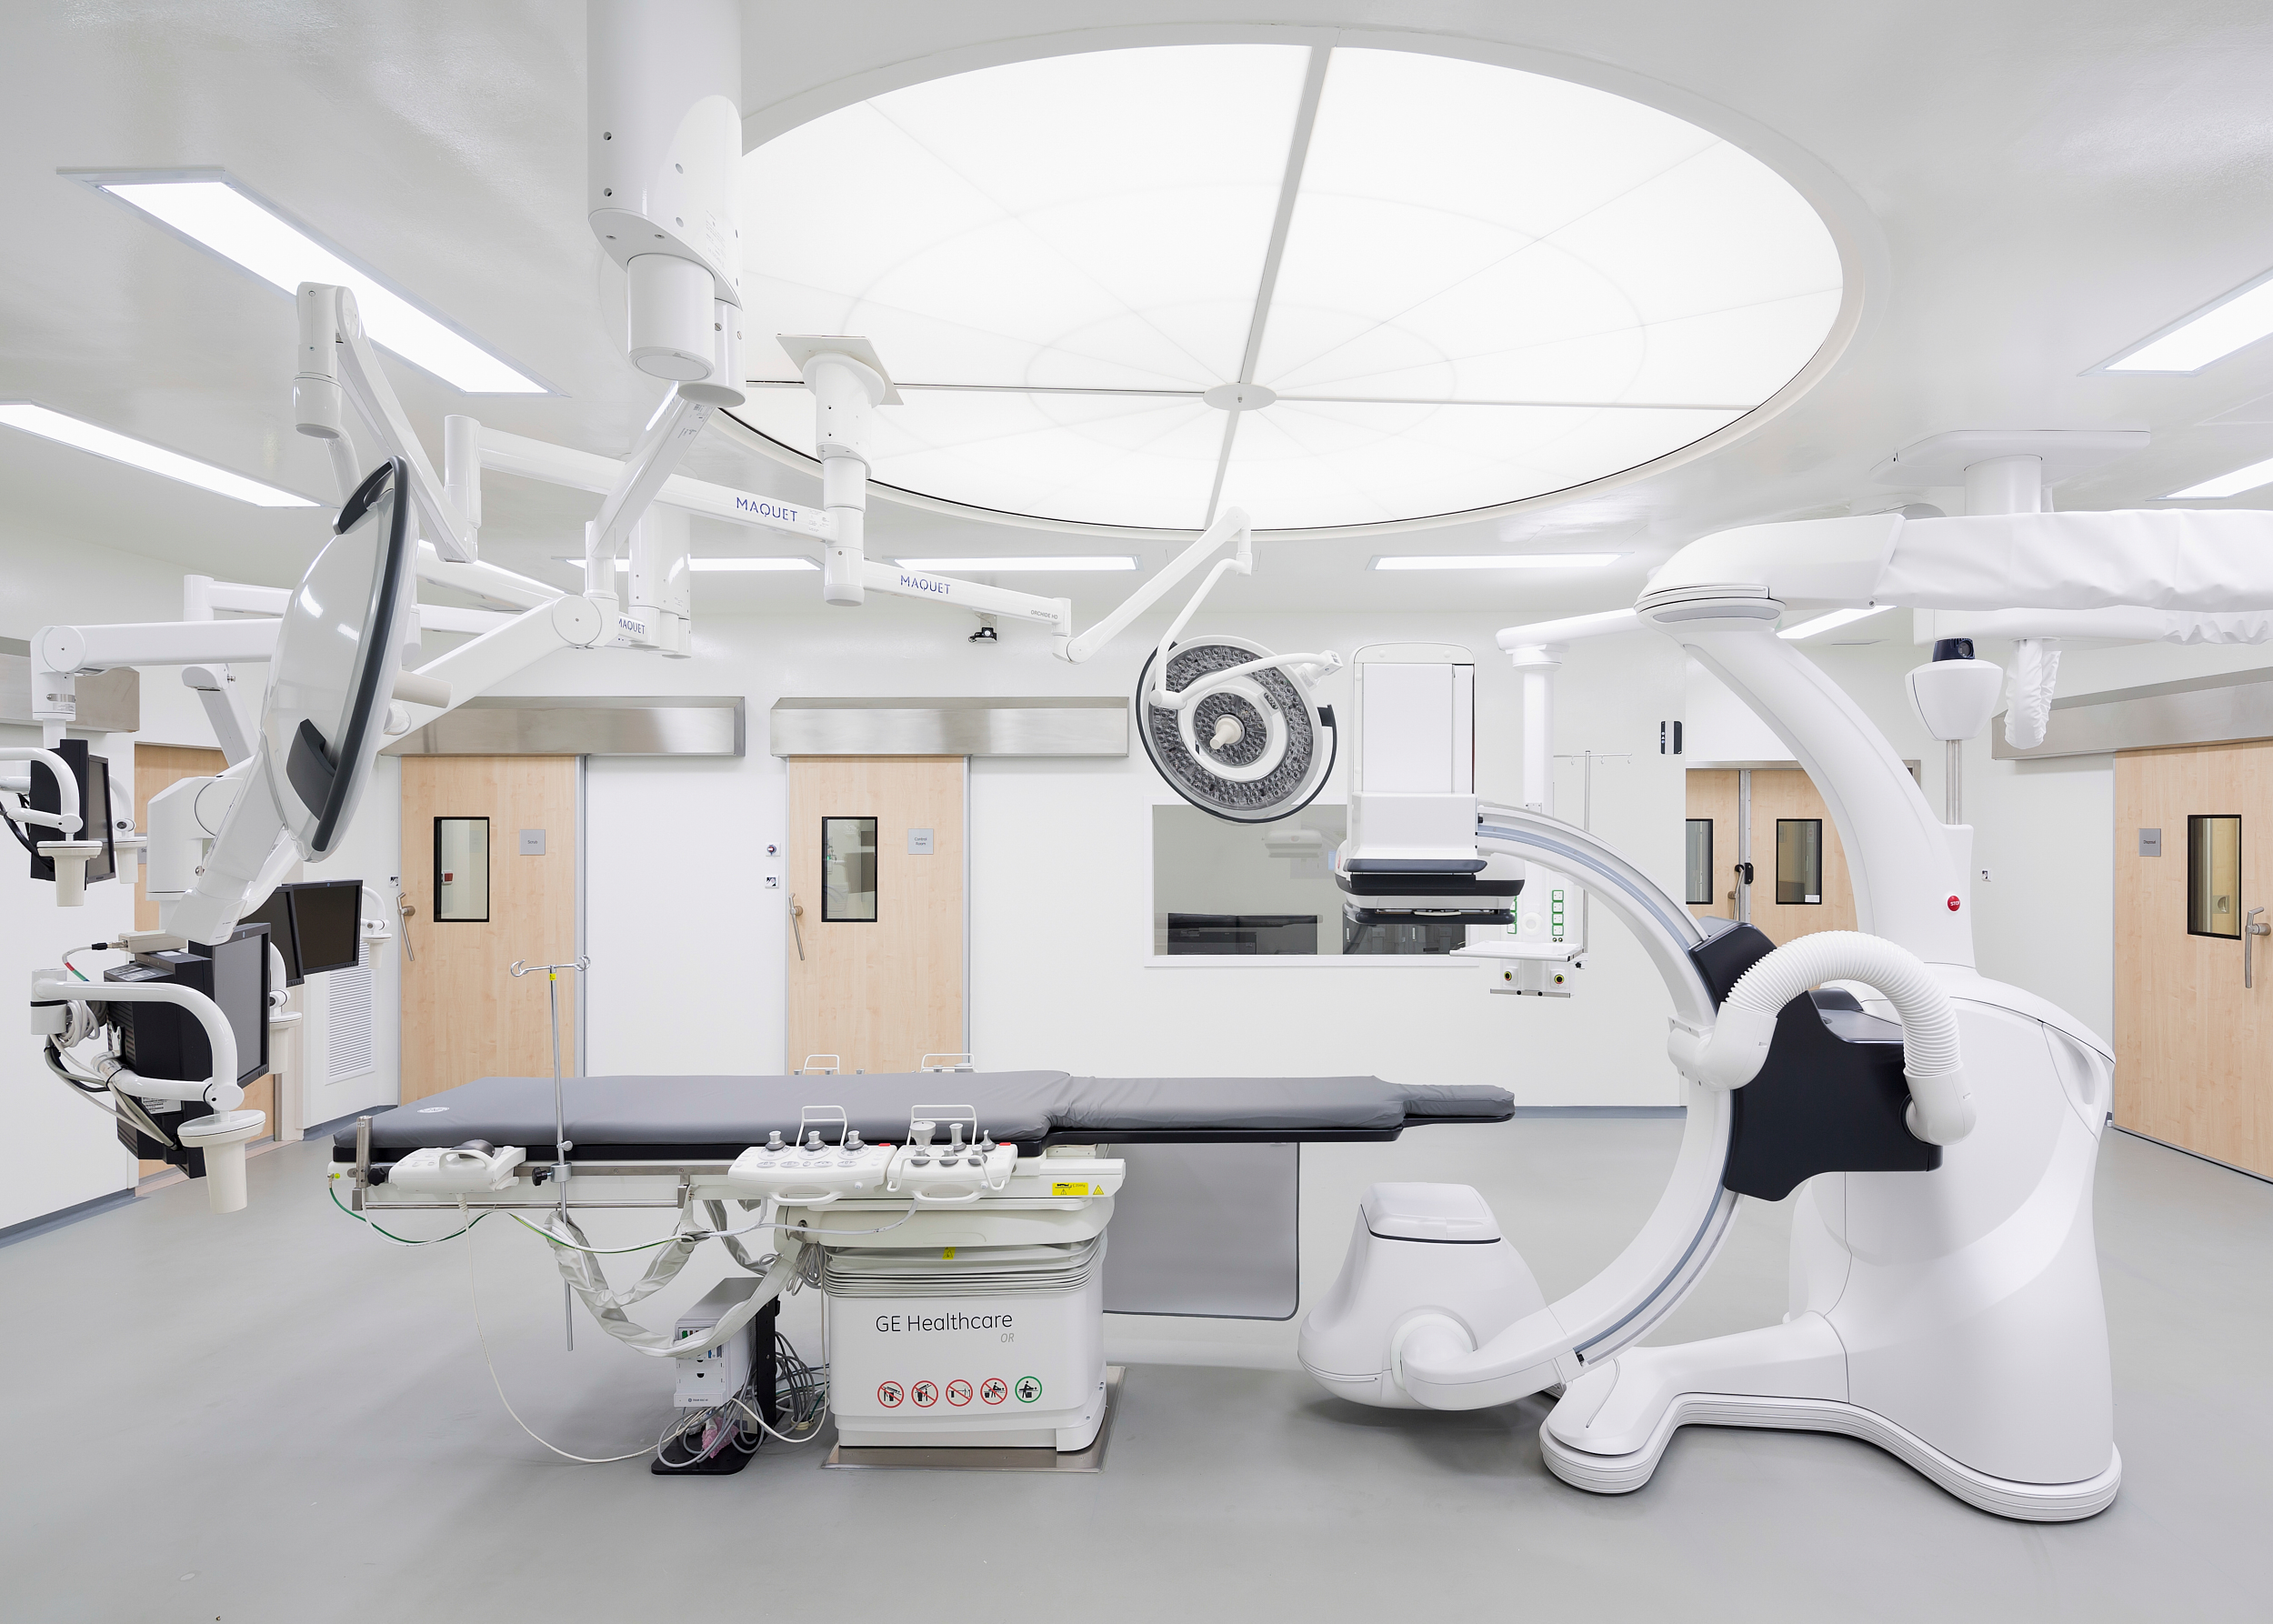bedside_monitor: (2, 742, 163, 902), (183, 932, 288, 1091), (281, 874, 379, 984)
door_handle: (768, 884, 829, 974), (2227, 895, 2273, 1002), (1714, 861, 1771, 935), (385, 888, 422, 960)
iv_pole: (508, 951, 592, 1171)
operating_bed: (327, 1069, 1516, 1475)
surgical_light: (615, 2, 1904, 545), (232, 453, 427, 866), (1126, 640, 1346, 837)
